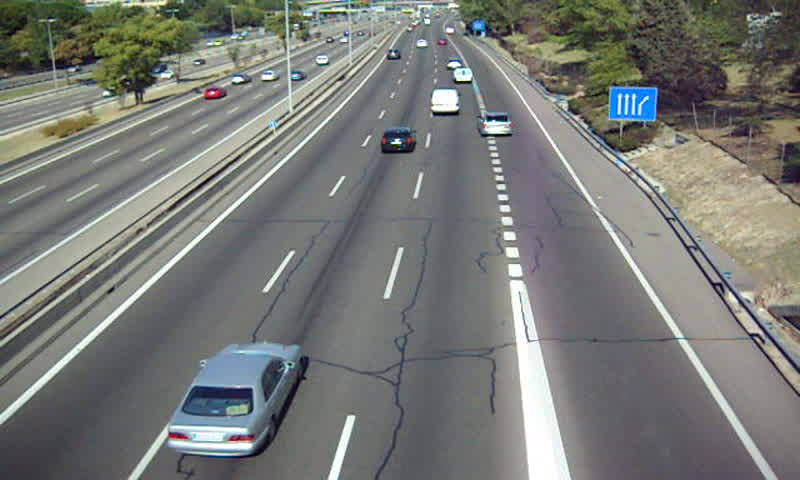car: (167, 342, 303, 457), (380, 125, 416, 153), (479, 109, 513, 136)
van: (429, 89, 461, 115), (454, 67, 474, 85)
